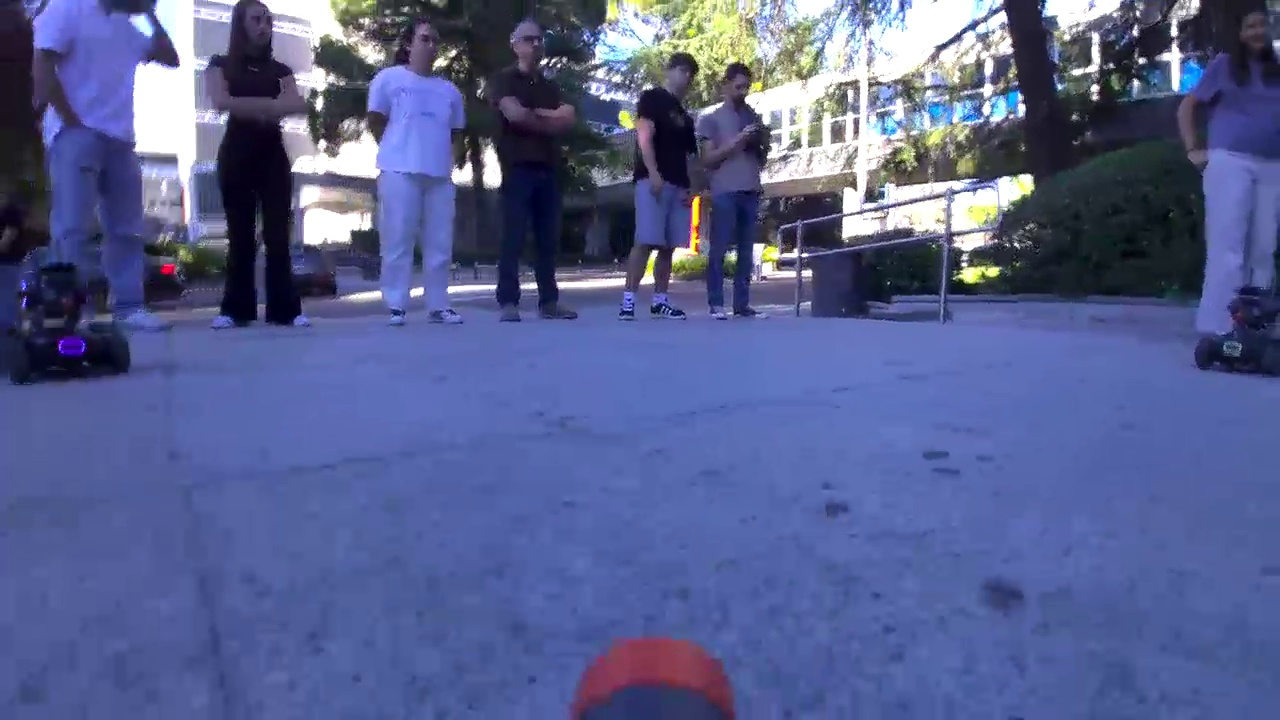robot: (1, 262, 131, 386), (1193, 285, 1280, 379)
